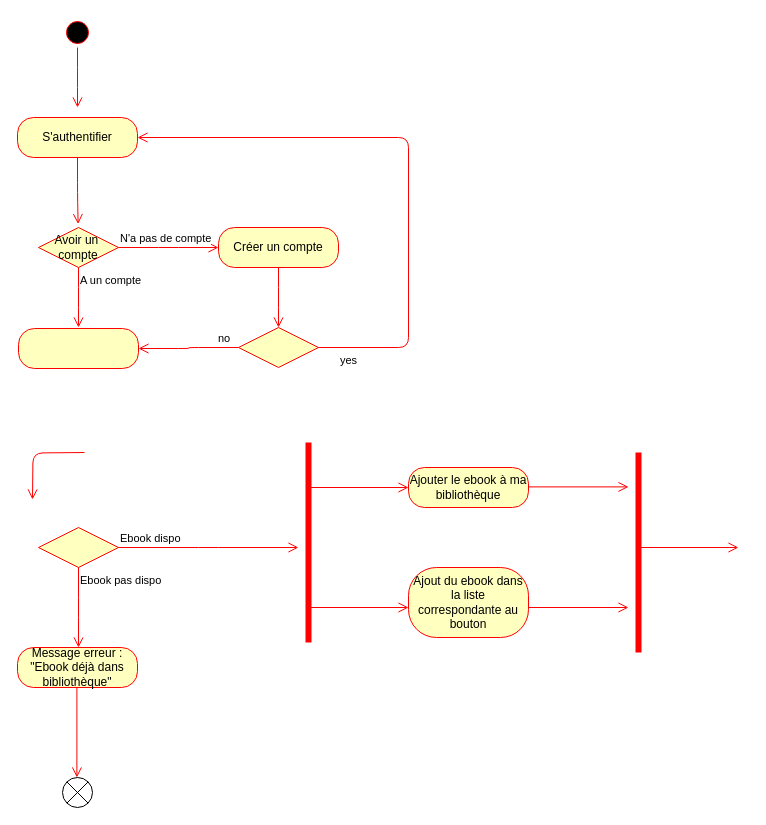
This 766x825 diagram has some shape labels left out. The shapes that lost their labels are listed below. From the top down, each one's centre as x and y in pixels, then its label:
At (x=78, y=348): "Accéder à la user librairie".
At (x=278, y=347): "Création du Compte".
At (x=78, y=547): "Ebook déjà présent ?".
